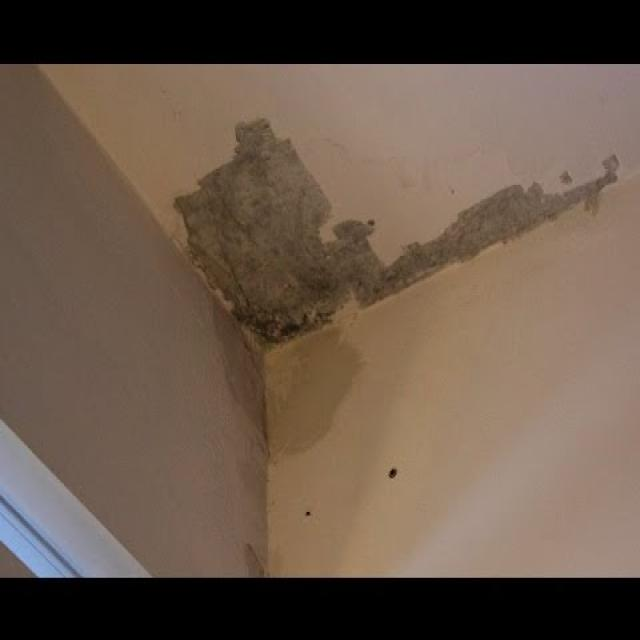leak: (175, 119, 617, 341)
